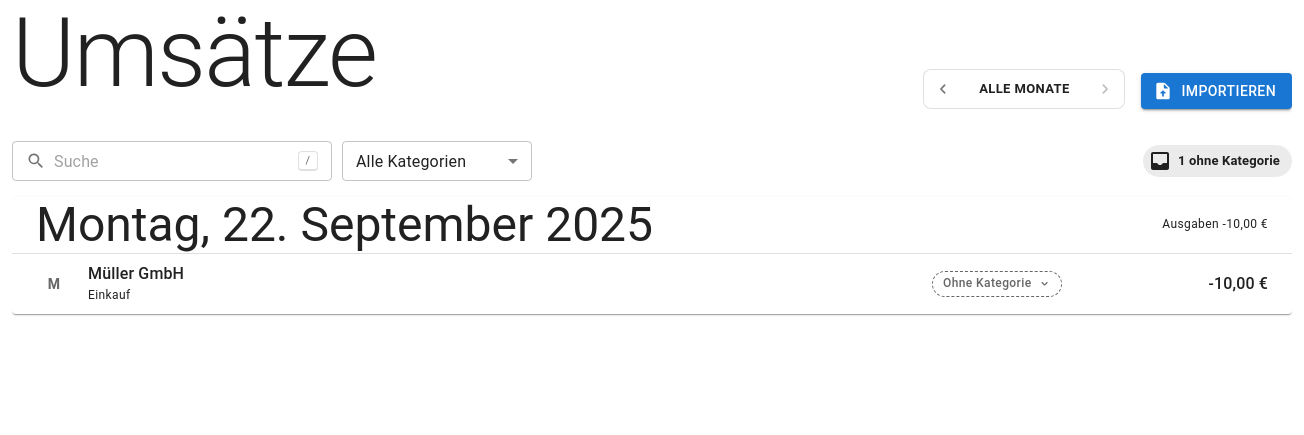
Test: TransactionsPage, the ledger › says so when the write is refused, and gives the row back
Expected: the dropdown named "Kategorie filtern" is shown, left=356, top=152, right=466, bottom=170
What coordinates should you click on to do the following:
click the button with aria-label "Kategorie: Ohne Kategorie"
I would click on:
 (997, 284)
Its box is left=932, top=271, right=1062, bottom=297.
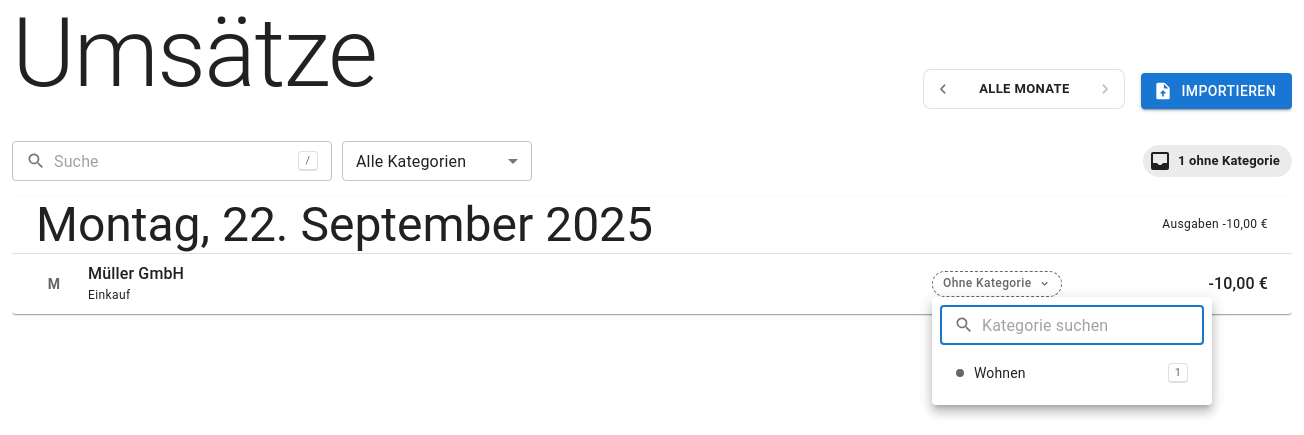
What coordinates should you click on to do the following:
click the menu item "Wohnen 1"
I would click on:
 (1000, 373)
Its box is left=940, top=357, right=1204, bottom=389.
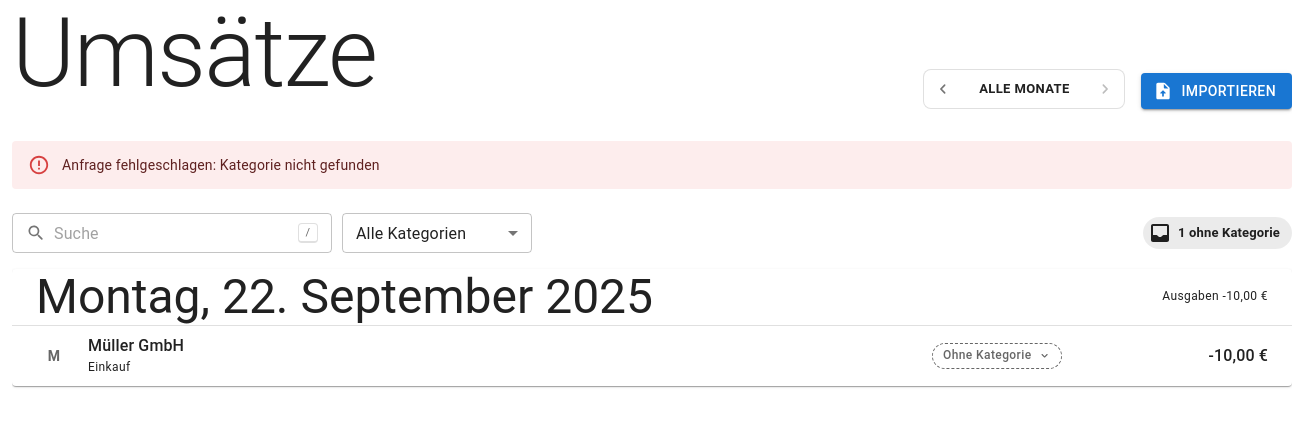
Expected: the button with aria-label "Kategorie: Ohne Kategorie" is enabled, left=932, top=343, right=1062, bottom=369
Result: the text "Anfrage fehlgeschlagen: Kategorie nicht gefunden" is shown at left=62, top=157, right=380, bottom=173
